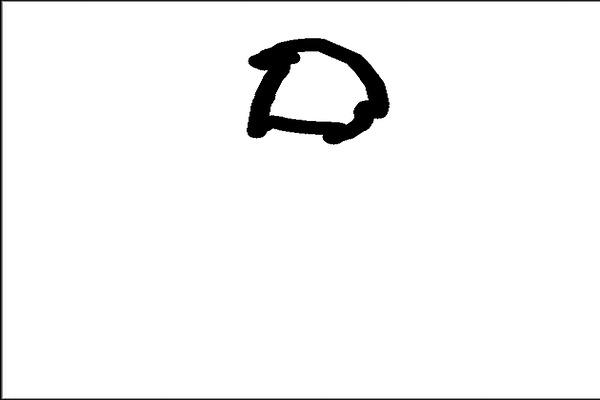D: (239, 32, 394, 148)
